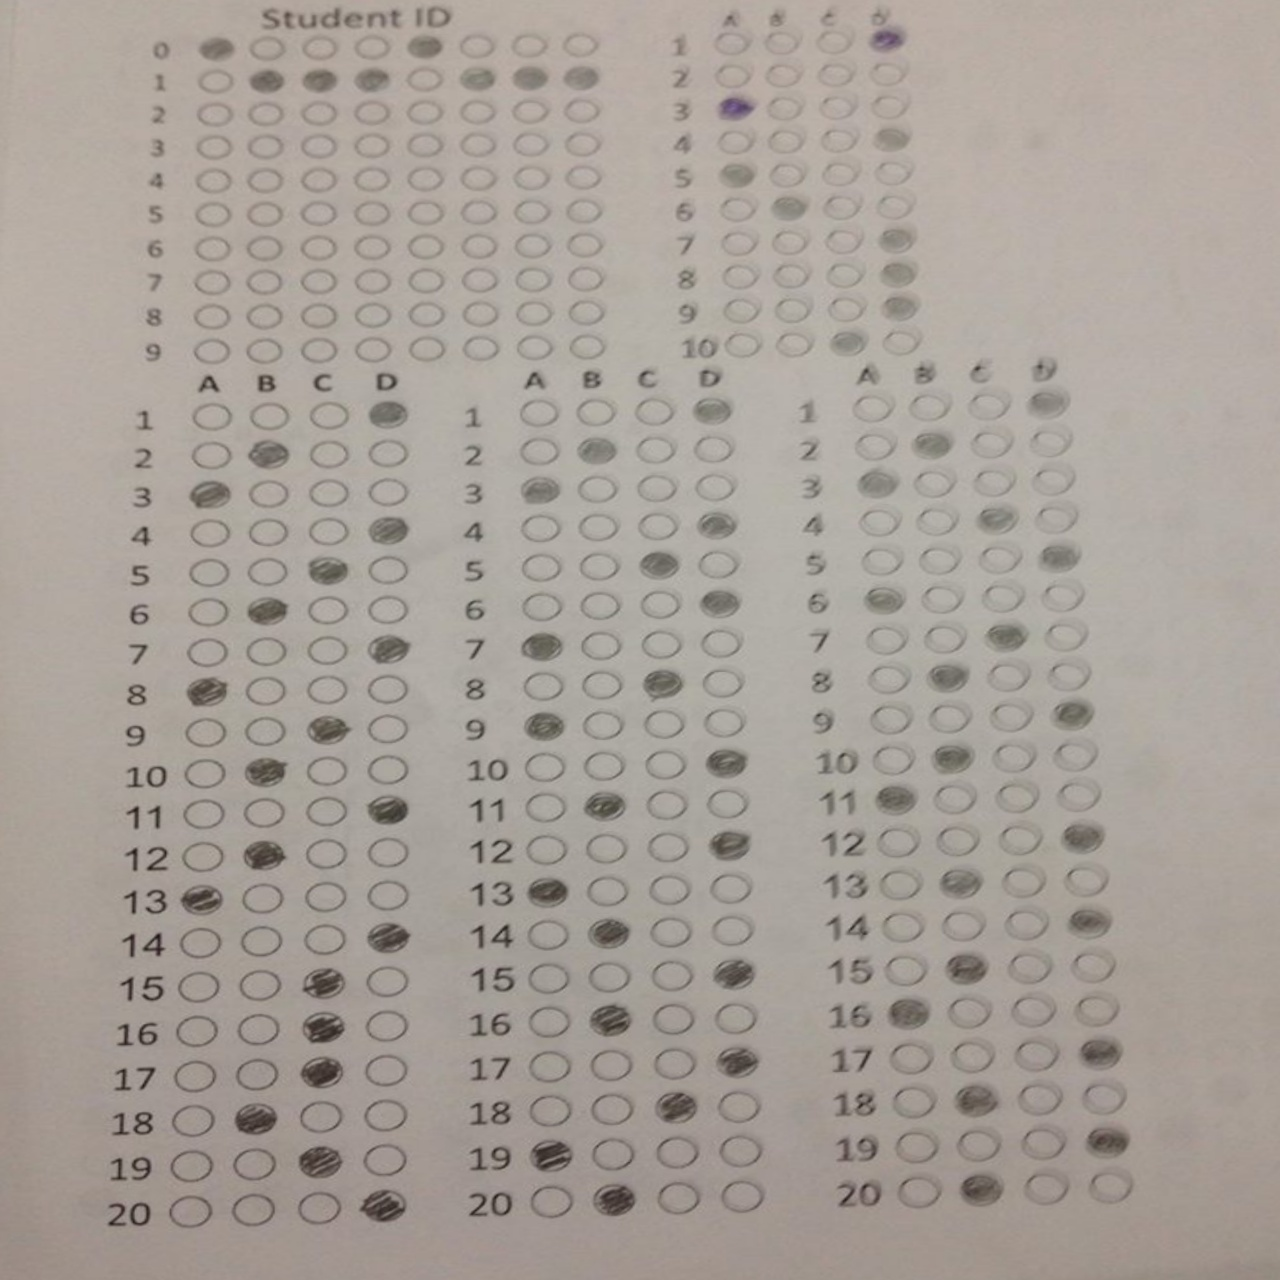not-c: (166, 1102, 215, 1141), (234, 924, 288, 956), (234, 1056, 282, 1092), (873, 911, 926, 944), (361, 1142, 408, 1178), (585, 1094, 636, 1126), (525, 1051, 574, 1085), (890, 1131, 939, 1165), (520, 962, 571, 995), (1012, 1039, 1058, 1074), (1046, 741, 1099, 771), (591, 1047, 634, 1084), (520, 753, 570, 785), (888, 1085, 938, 1118), (298, 1098, 343, 1133), (994, 826, 1047, 857), (229, 1194, 275, 1228), (710, 915, 757, 949), (956, 1129, 1003, 1163), (515, 792, 568, 822), (523, 1008, 574, 1039), (586, 1137, 638, 1167), (648, 958, 693, 993), (874, 869, 924, 900), (1003, 910, 1053, 941), (365, 1054, 410, 1088), (365, 1097, 410, 1131), (166, 1194, 212, 1228), (1023, 1172, 1069, 1206), (644, 748, 690, 781), (642, 789, 689, 822), (1008, 953, 1051, 988), (651, 1184, 699, 1216), (1080, 1082, 1128, 1114), (1020, 1128, 1068, 1159), (233, 1148, 278, 1182), (918, 624, 969, 653), (939, 913, 990, 942), (1006, 996, 1057, 1026), (362, 967, 411, 998), (646, 831, 692, 864), (704, 872, 750, 905), (1061, 869, 1110, 899), (365, 881, 411, 913), (856, 508, 903, 539), (983, 663, 1034, 693), (243, 798, 286, 832), (655, 1046, 699, 1080), (531, 1184, 574, 1218), (898, 1175, 941, 1208), (173, 1017, 222, 1048), (993, 783, 1041, 813), (655, 1137, 700, 1170), (243, 636, 288, 668), (241, 715, 287, 747), (365, 755, 410, 787), (305, 924, 350, 955), (880, 955, 926, 987), (1073, 952, 1118, 983), (715, 1003, 756, 1039), (365, 835, 407, 869), (1091, 1172, 1133, 1206), (583, 753, 629, 783), (305, 754, 348, 787), (653, 1005, 696, 1037), (171, 1061, 216, 1092), (1071, 995, 1116, 1027), (529, 1094, 570, 1128), (183, 799, 229, 830), (170, 1151, 216, 1182), (516, 436, 561, 467), (581, 876, 627, 906), (523, 921, 568, 952), (1060, 782, 1105, 812), (1002, 871, 1048, 901), (179, 926, 222, 959), (701, 627, 743, 660), (717, 1092, 760, 1125), (706, 790, 753, 819), (942, 1000, 989, 1029), (888, 1043, 935, 1073), (366, 1012, 409, 1043), (298, 1191, 341, 1223), (520, 670, 564, 702), (1015, 1083, 1058, 1115), (850, 433, 900, 459), (179, 842, 224, 872), (638, 511, 682, 542), (647, 874, 692, 905), (651, 917, 690, 951), (522, 551, 563, 584), (183, 638, 229, 667), (633, 476, 679, 505), (719, 1139, 764, 1169), (847, 394, 893, 423), (367, 554, 409, 586), (692, 471, 734, 503), (178, 973, 222, 1003), (704, 710, 748, 741), (243, 676, 290, 704), (365, 716, 411, 744), (576, 553, 622, 581), (306, 881, 346, 914), (952, 1042, 992, 1075), (238, 969, 282, 999), (517, 513, 561, 543), (874, 829, 919, 858), (238, 1014, 279, 1046), (302, 798, 350, 825), (520, 836, 568, 863), (928, 787, 976, 813), (248, 477, 291, 508), (579, 512, 621, 543), (584, 836, 626, 866), (866, 704, 912, 733), (307, 401, 350, 430), (695, 552, 738, 581), (702, 669, 745, 699), (965, 392, 1008, 421), (723, 1179, 762, 1212), (971, 469, 1017, 496), (644, 632, 683, 663), (247, 519, 292, 547), (245, 558, 290, 586), (302, 840, 347, 869), (1032, 467, 1076, 495), (644, 708, 685, 738), (821, 298, 869, 324), (191, 302, 233, 332), (581, 629, 624, 659), (816, 91, 858, 121), (937, 828, 979, 857), (186, 520, 232, 547), (239, 885, 285, 912), (870, 745, 915, 772), (184, 598, 227, 626), (307, 595, 350, 624), (367, 595, 410, 624), (368, 676, 411, 704), (182, 760, 225, 788), (978, 586, 1021, 614), (1049, 663, 1092, 692), (993, 744, 1036, 772), (1043, 621, 1083, 652), (299, 199, 340, 229), (565, 298, 606, 327), (581, 670, 622, 700), (247, 34, 290, 62), (191, 441, 233, 469), (369, 479, 411, 508), (576, 477, 618, 505), (1034, 505, 1076, 533), (774, 332, 819, 358), (561, 30, 605, 57), (576, 400, 619, 427), (825, 263, 869, 290), (869, 666, 912, 693), (300, 33, 340, 62), (352, 33, 392, 62), (350, 198, 390, 227), (243, 268, 282, 298), (590, 964, 629, 993), (920, 545, 960, 574), (247, 402, 288, 430), (308, 440, 349, 468), (636, 397, 678, 425), (583, 712, 624, 740), (971, 430, 1012, 458), (979, 549, 1020, 577), (919, 587, 966, 612), (644, 588, 680, 620), (509, 34, 553, 60), (633, 437, 678, 463), (306, 674, 343, 704), (306, 481, 348, 508), (309, 518, 352, 545), (717, 195, 760, 222), (1030, 429, 1073, 456), (992, 702, 1030, 731), (192, 404, 232, 433), (583, 592, 622, 620), (564, 232, 607, 258), (517, 399, 560, 424), (1042, 585, 1085, 611), (245, 131, 286, 158), (350, 234, 392, 261), (403, 268, 444, 295), (189, 559, 230, 586), (693, 436, 734, 463), (520, 595, 561, 622), (930, 703, 967, 733), (817, 129, 862, 154), (404, 234, 447, 260), (300, 268, 339, 297), (513, 302, 556, 328), (764, 96, 806, 122), (862, 547, 900, 576), (298, 132, 338, 159), (406, 302, 445, 329), (188, 719, 227, 745), (910, 395, 949, 422), (246, 302, 282, 332), (459, 232, 501, 258), (513, 232, 554, 258), (712, 30, 753, 56), (913, 471, 954, 497), (246, 200, 284, 229), (300, 302, 338, 331), (769, 161, 806, 189), (824, 162, 862, 190), (870, 195, 914, 218), (456, 33, 495, 60), (404, 200, 443, 227), (353, 304, 392, 331), (307, 636, 346, 663), (870, 159, 908, 186), (195, 134, 234, 159), (191, 166, 231, 192), (190, 270, 230, 295), (191, 340, 231, 366), (244, 340, 284, 366), (516, 335, 556, 361), (715, 230, 755, 256), (768, 263, 808, 288), (300, 100, 336, 128), (768, 128, 804, 156), (919, 508, 956, 535), (720, 265, 761, 290), (815, 28, 853, 54), (198, 101, 233, 129), (406, 164, 441, 192), (564, 164, 599, 192), (353, 101, 393, 125), (459, 166, 499, 191), (565, 266, 605, 291), (869, 95, 908, 120), (459, 96, 496, 123), (247, 234, 284, 261), (301, 338, 338, 365), (406, 100, 443, 125), (565, 199, 602, 225), (355, 268, 393, 294), (408, 338, 445, 363), (564, 132, 599, 159), (302, 234, 338, 261), (356, 338, 392, 365), (459, 134, 496, 159), (461, 338, 497, 363), (716, 129, 756, 152), (825, 231, 865, 254), (721, 299, 761, 322), (863, 629, 903, 653), (200, 67, 233, 95), (459, 200, 497, 225), (195, 234, 232, 259), (765, 63, 803, 88), (816, 62, 853, 87), (721, 333, 762, 355), (302, 165, 338, 191), (353, 168, 392, 191), (463, 267, 498, 293), (370, 441, 406, 467), (884, 327, 919, 353), (563, 98, 599, 123), (406, 132, 442, 157), (763, 30, 799, 55), (511, 98, 549, 122), (515, 199, 552, 223), (568, 335, 606, 359), (195, 203, 229, 229), (461, 302, 495, 328), (869, 64, 910, 86), (247, 102, 286, 124), (712, 67, 750, 89), (772, 299, 811, 321), (246, 169, 282, 192), (511, 166, 551, 188), (354, 134, 389, 157), (513, 268, 549, 292), (822, 196, 857, 219), (510, 134, 546, 155), (772, 232, 806, 254), (410, 69, 443, 90)
taken-c: (954, 1169, 1005, 1207), (940, 949, 989, 988), (1056, 821, 1107, 858), (356, 1189, 409, 1224), (584, 1003, 636, 1039), (1078, 1124, 1129, 1160), (298, 967, 349, 1002), (240, 838, 290, 874), (588, 1182, 638, 1218), (527, 1139, 578, 1175), (710, 955, 758, 992), (930, 741, 978, 777), (1064, 905, 1114, 940), (714, 1044, 760, 1082), (362, 794, 413, 828), (298, 1012, 348, 1046), (980, 620, 1027, 656), (884, 998, 933, 1032), (1047, 697, 1097, 730), (937, 867, 983, 903), (1075, 1036, 1122, 1071), (365, 632, 413, 666), (241, 755, 290, 789), (362, 921, 410, 955), (524, 874, 572, 908), (518, 631, 566, 665), (855, 467, 903, 501), (974, 502, 1022, 536), (302, 713, 352, 745), (652, 1091, 701, 1124), (1023, 387, 1073, 420), (297, 1055, 342, 1090), (952, 1082, 998, 1117), (178, 883, 225, 917), (706, 828, 753, 862), (1035, 540, 1082, 574), (858, 584, 906, 617), (873, 783, 921, 816), (587, 915, 632, 951), (244, 595, 290, 629), (306, 553, 350, 587), (234, 1103, 279, 1137), (297, 1145, 341, 1179), (640, 668, 685, 702), (639, 549, 683, 583), (697, 587, 743, 620), (703, 745, 747, 779), (366, 515, 411, 546), (924, 662, 969, 694), (195, 34, 241, 64), (188, 478, 231, 511), (524, 709, 567, 742), (365, 400, 409, 431), (248, 438, 293, 470), (878, 259, 922, 291), (583, 789, 626, 821), (694, 510, 737, 542), (518, 474, 561, 505), (185, 676, 226, 709), (908, 430, 954, 459), (576, 435, 618, 467), (299, 66, 342, 96), (508, 63, 552, 93), (247, 64, 288, 96), (404, 30, 447, 61), (826, 327, 865, 360), (869, 125, 913, 154), (690, 396, 733, 425), (455, 64, 498, 93), (352, 66, 393, 95), (561, 63, 602, 91), (874, 227, 915, 256), (716, 159, 757, 188), (867, 25, 905, 55), (767, 195, 809, 222), (880, 297, 919, 324), (715, 96, 756, 121)
